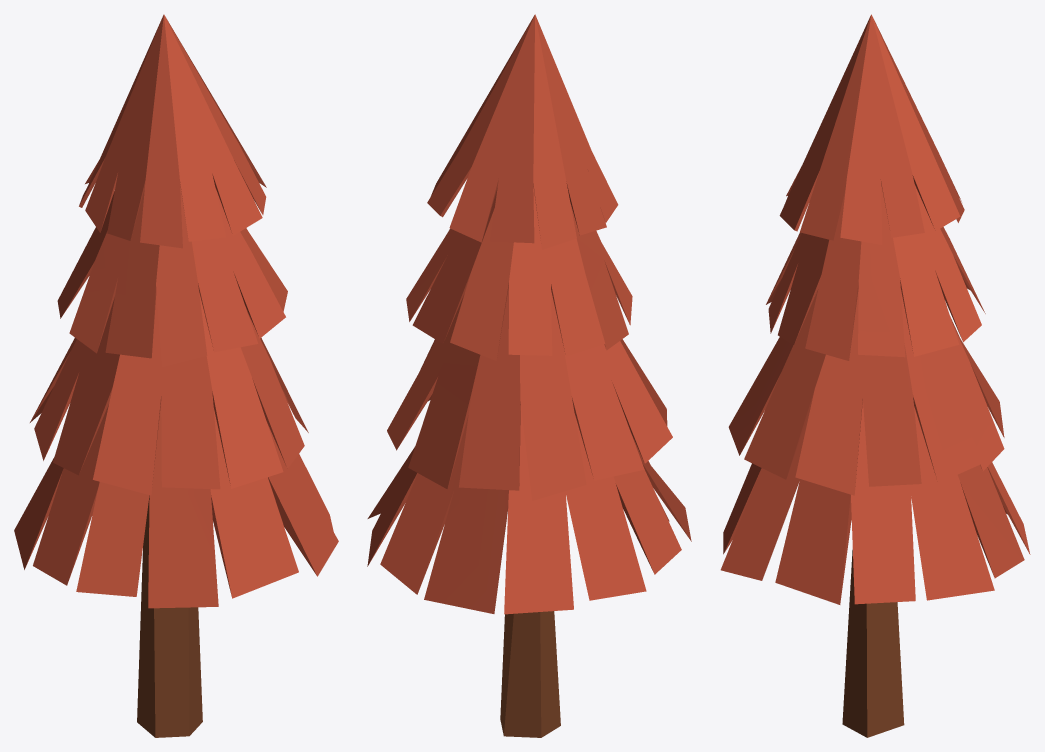
The model's file is Tree_02.fbx.
3 renders of one model, left to right at view 1: azimuth 30°, elevation 25°; view 2: azimuth 150°, elevation 25°; view 3: azimuth 270°, elevation 25°, orthographic.
Parts seen in each view (by area): view 1: Tree_02_LOD1; view 2: Tree_02_LOD1; view 3: Tree_02_LOD1.
Part boxes in pixels (<box>): Tree_02_LOD1: <box>14,14,338,737</box>; Tree_02_LOD1: <box>367,14,691,737</box>; Tree_02_LOD1: <box>720,14,1030,737</box>.
Size of the model in its own units: 170 by 422 by 168.
